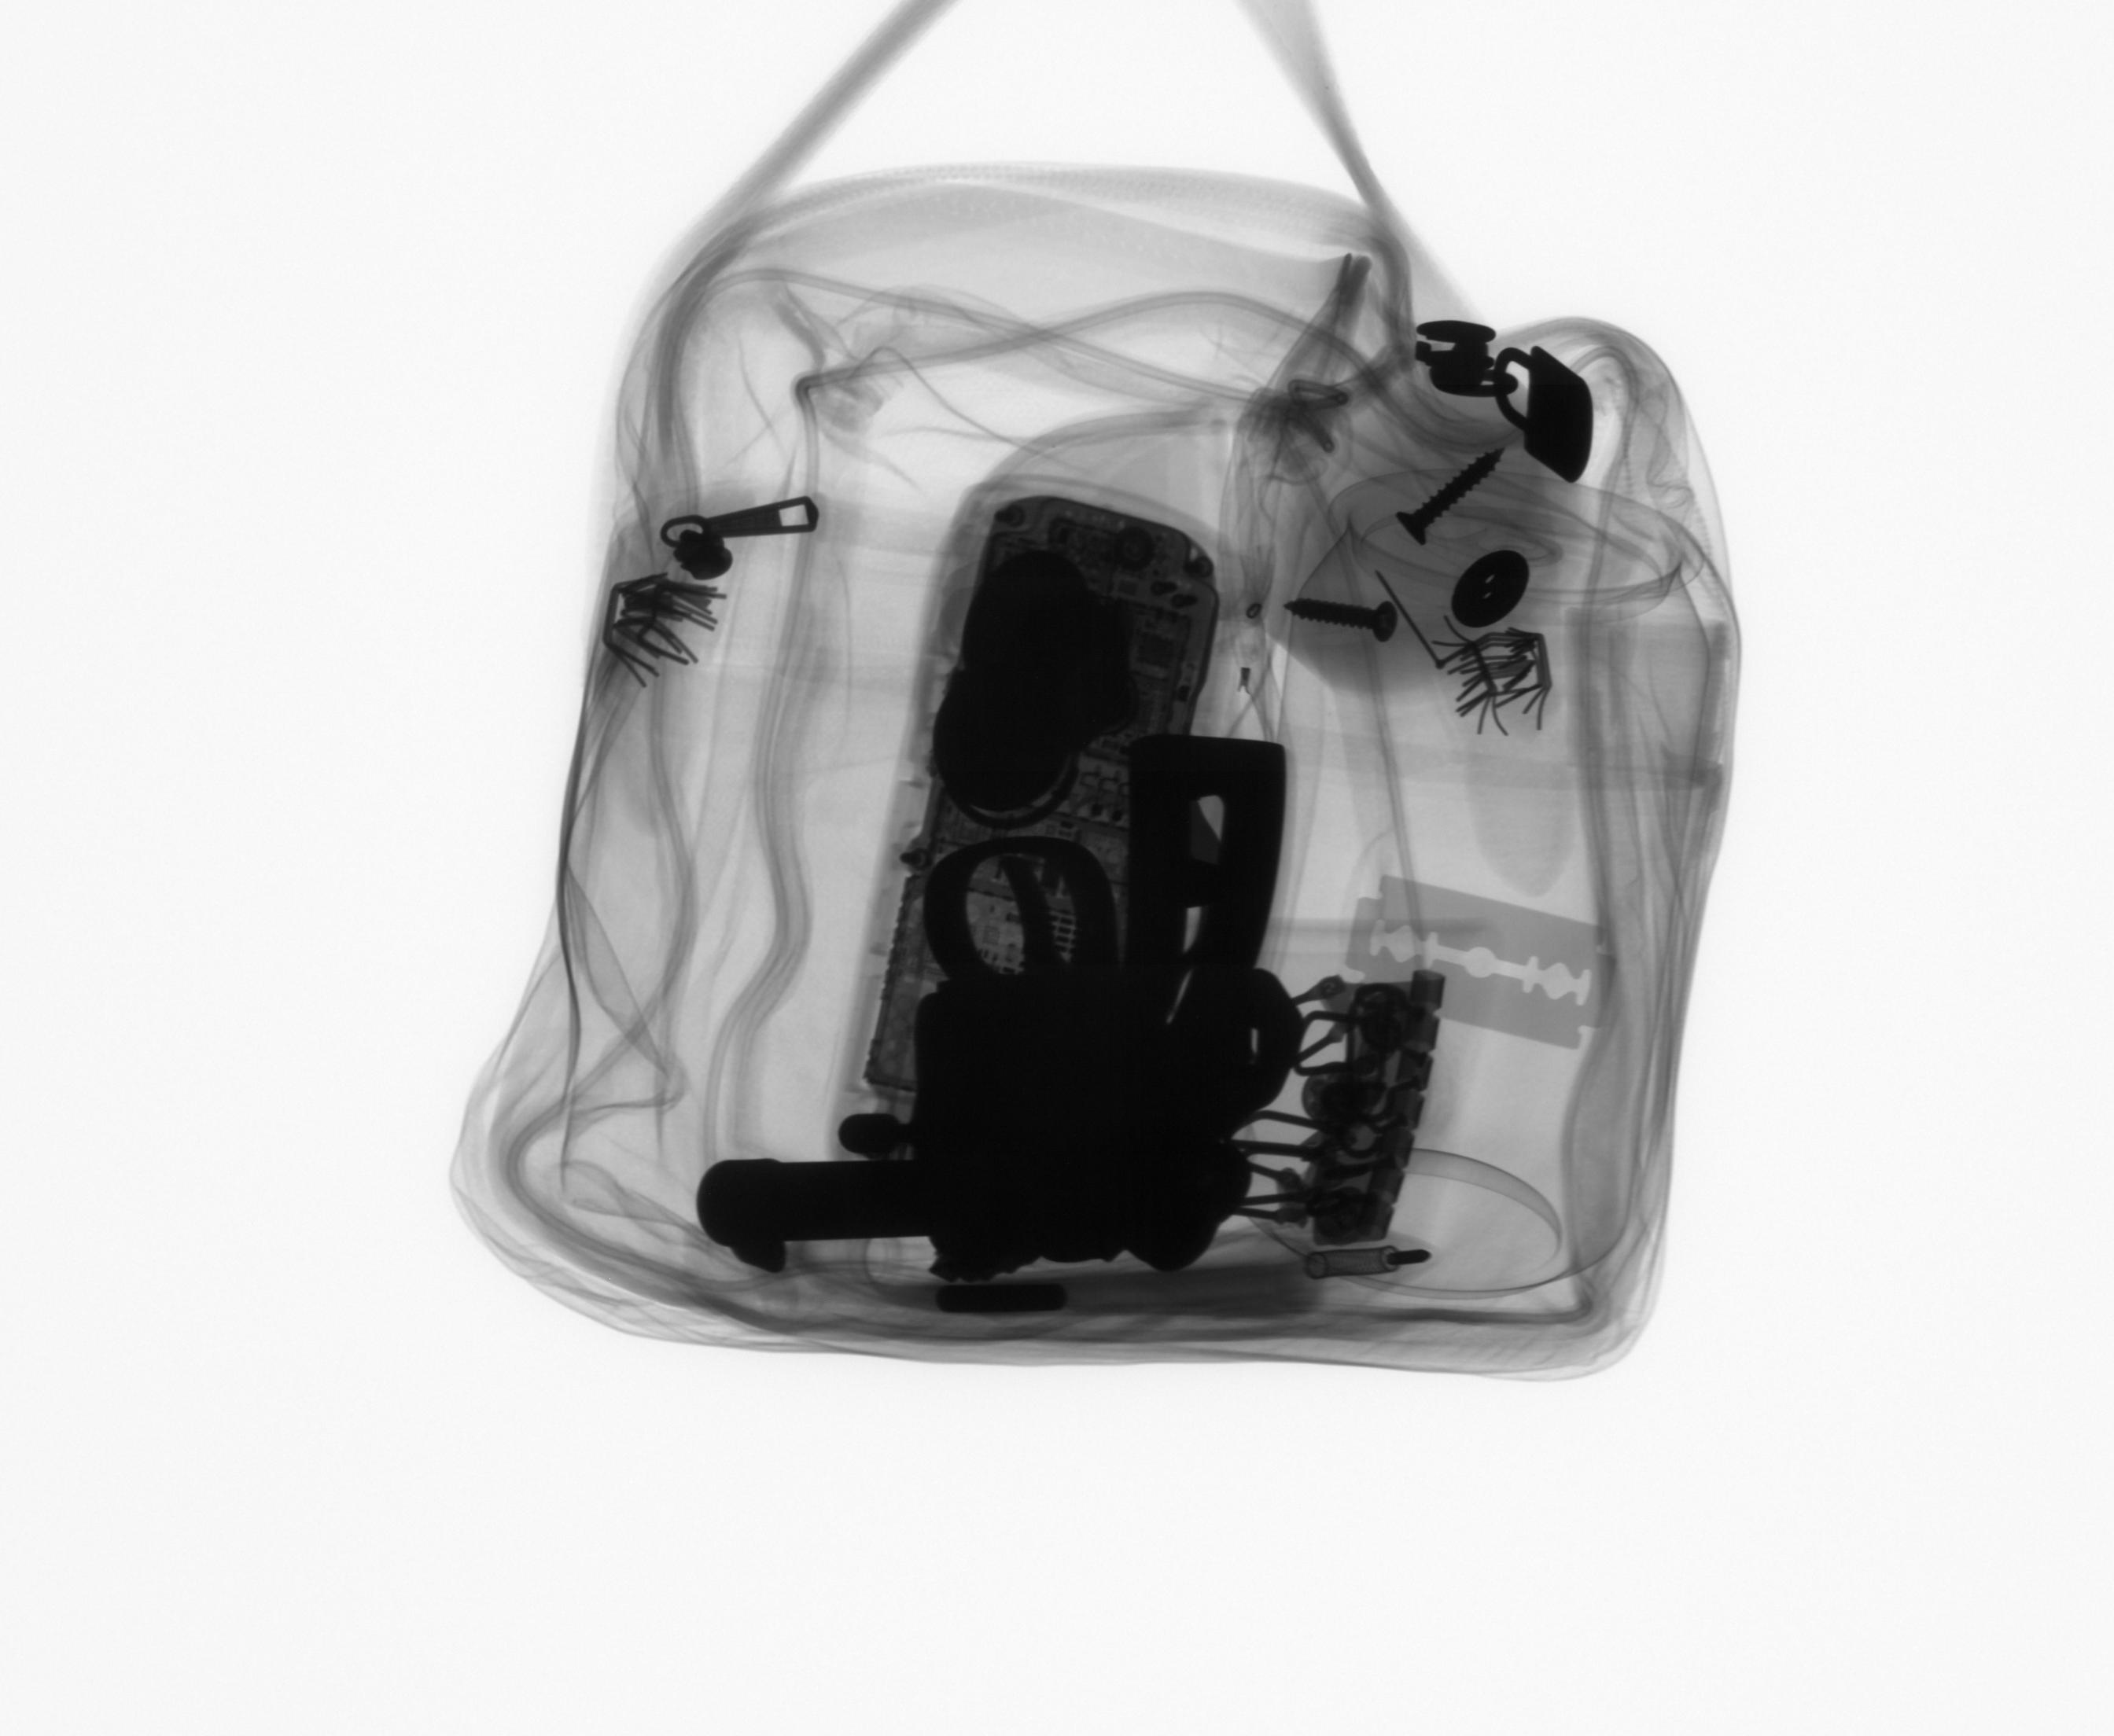Handgun: (692, 727, 1305, 1290)
RazorBlade: (1336, 867, 1622, 1057)
